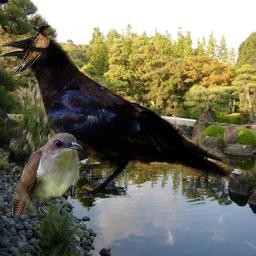Crow: (0, 35, 235, 198)
Cuckoo: (12, 133, 83, 215)
Swallow: (11, 24, 51, 76)
